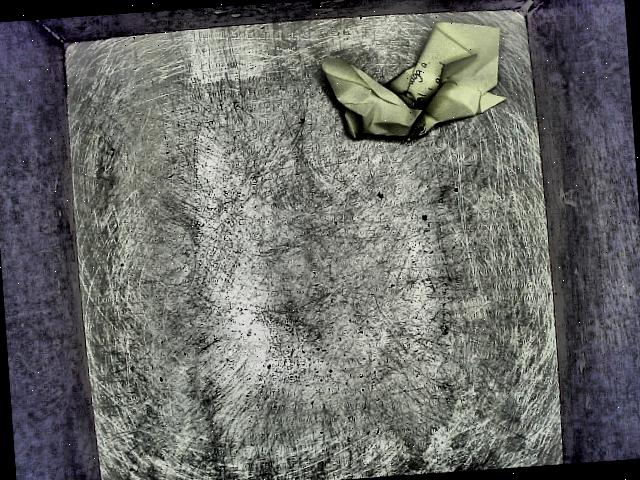Paper: (304, 5, 554, 192)
